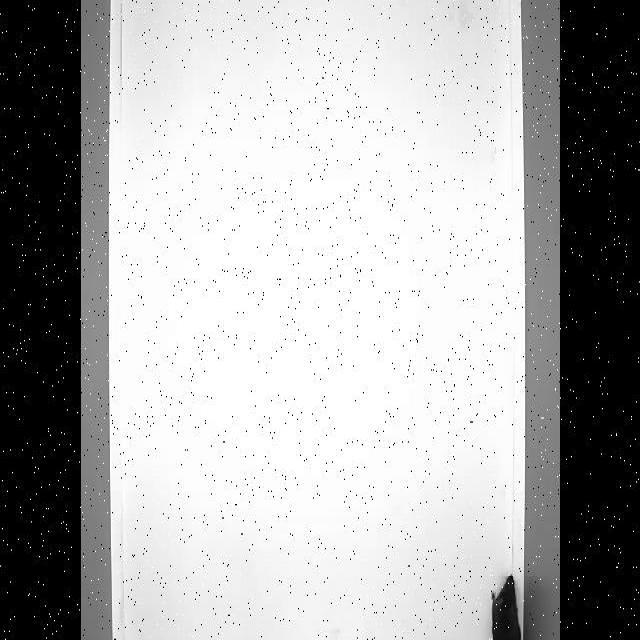rat: (436, 576, 521, 640)
